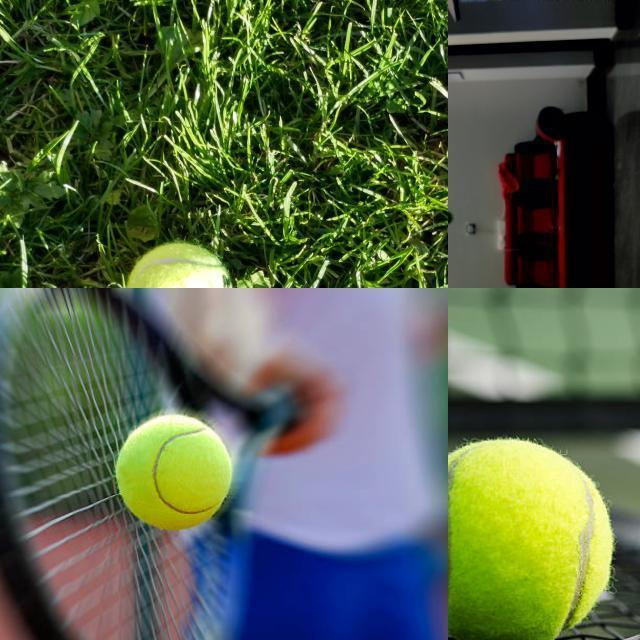tennis-ball: (448, 437, 614, 639), (116, 412, 233, 531), (123, 242, 235, 287), (448, 211, 452, 226)
